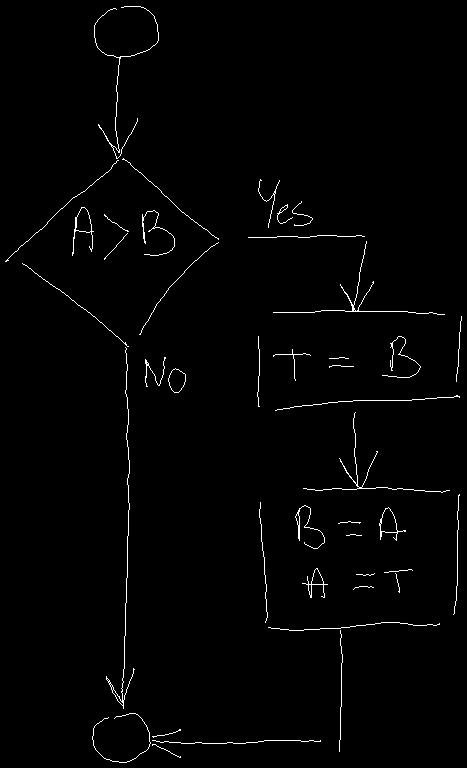arrow: (152, 630, 342, 757), (106, 347, 134, 708), (248, 235, 373, 311), (98, 57, 137, 158), (339, 412, 377, 487)
connection: (94, 6, 158, 57), (92, 713, 150, 762)
decision: (5, 158, 218, 346)
process: (259, 487, 459, 630), (257, 310, 461, 410)
text: (295, 505, 412, 597), (273, 336, 420, 380), (72, 207, 174, 259), (258, 179, 312, 227), (145, 357, 185, 392)
